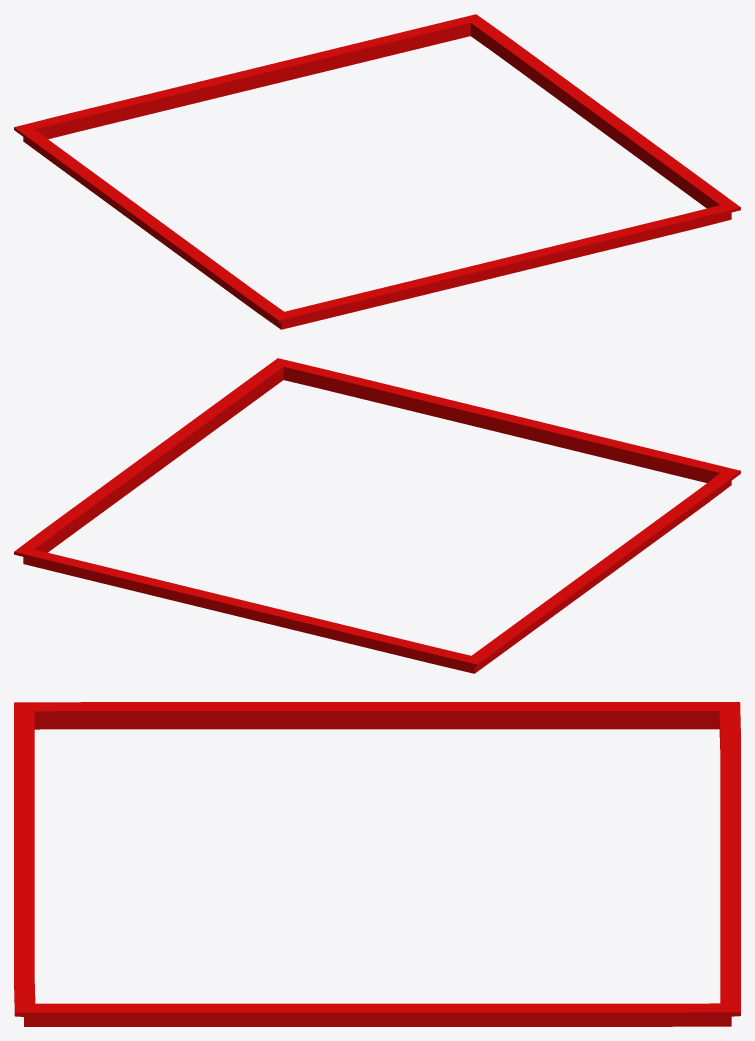
Rendered from Pyramid_02_Base_Edge.fbx.
The picture shows the model from 3 angles, top to bottom: view 1: azimuth 30°, elevation 25°; view 2: azimuth 150°, elevation 25°; view 3: azimuth 270°, elevation 25°; orthographic projection. The views are drawn at different scales.
Parts seen in each view (by area): view 1: Pyramid_02_Base_Edge; view 2: Pyramid_02_Base_Edge; view 3: Pyramid_02_Base_Edge.
Part boxes in pixels (x1=…): Pyramid_02_Base_Edge: x1=14, y1=14, x2=740, y2=329; Pyramid_02_Base_Edge: x1=14, y1=358, x2=740, y2=673; Pyramid_02_Base_Edge: x1=14, y1=702, x2=740, y2=1026.
Size of the model in its own units: 22427 by 614 by 22188.
